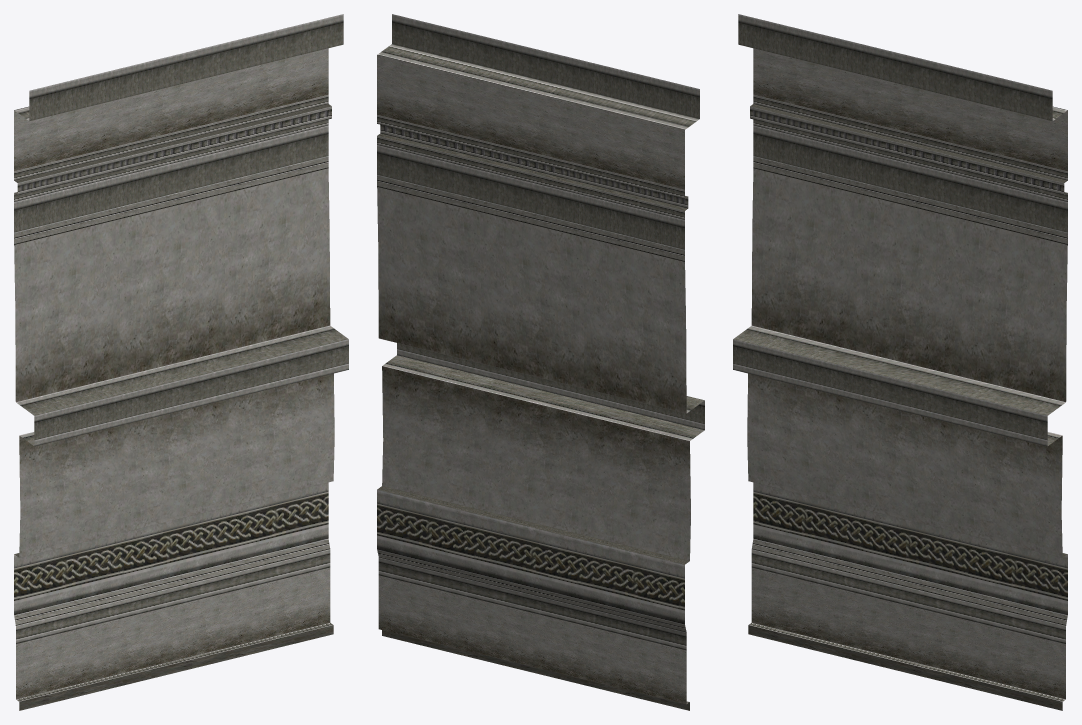
File: DWARF_PALACE_WATER_ROOM_WALL01C01.fbx
The picture shows the model from 3 angles, left to right: view 1: azimuth 30°, elevation 25°; view 2: azimuth 150°, elevation 25°; view 3: azimuth 330°, elevation 25°; orthographic projection. The views are drawn at different scales.
Parts seen in each view (by area): view 1: DWARF_PALACE_WATER_ROOM_WALL01C01; view 2: DWARF_PALACE_WATER_ROOM_WALL01C01; view 3: DWARF_PALACE_WATER_ROOM_WALL01C01.
Part boxes in pixels (x1,y1,x2,y2): DWARF_PALACE_WATER_ROOM_WALL01C01: (14,14,348,710); DWARF_PALACE_WATER_ROOM_WALL01C01: (377,14,704,710); DWARF_PALACE_WATER_ROOM_WALL01C01: (733,14,1067,710).
Bounding box in the file's own units: 107467 × 205000 × 12001.
7 materials, 7 textured.
